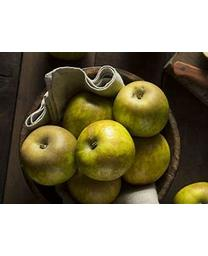apple: (74, 119, 134, 181), (20, 124, 77, 185), (113, 80, 169, 138), (121, 133, 169, 187), (63, 93, 112, 138), (66, 172, 119, 202)
